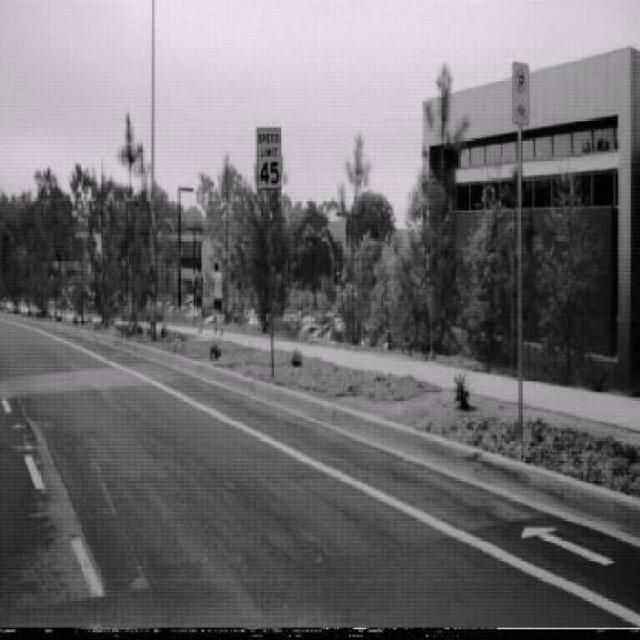speedLimit45: (255, 126, 283, 192)
